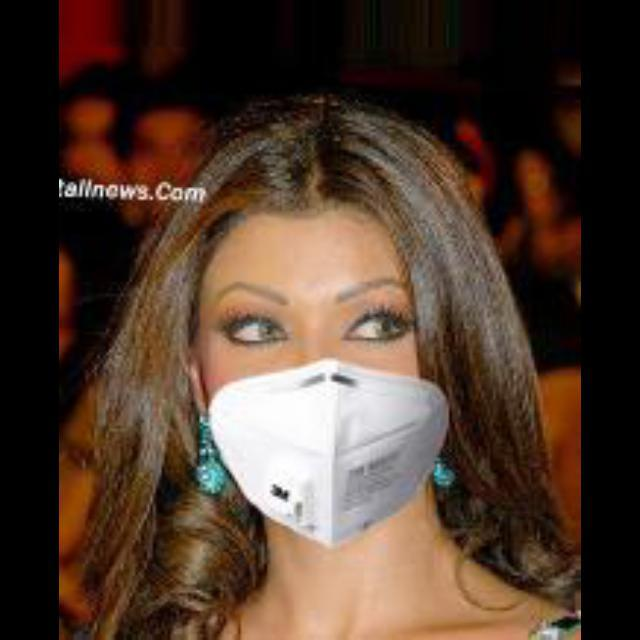suspicion: (120, 124, 488, 548)
